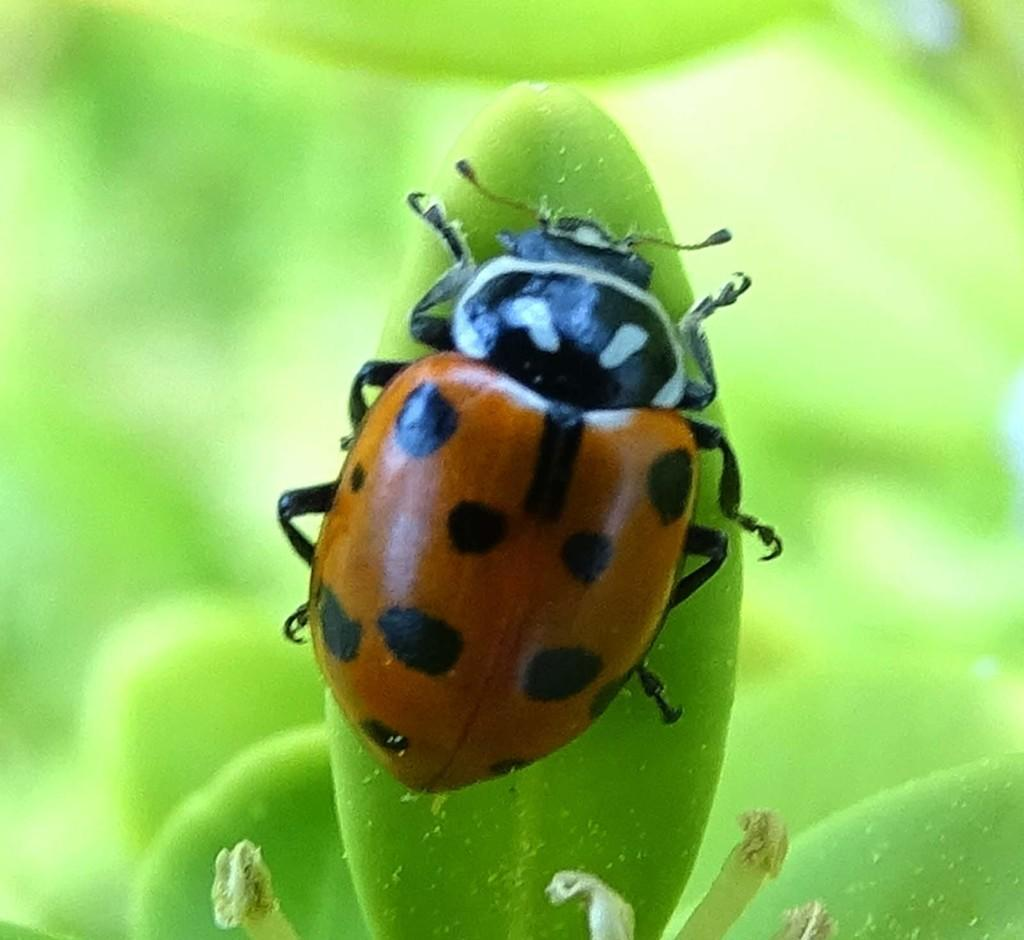ladybug: (279, 156, 794, 796)
